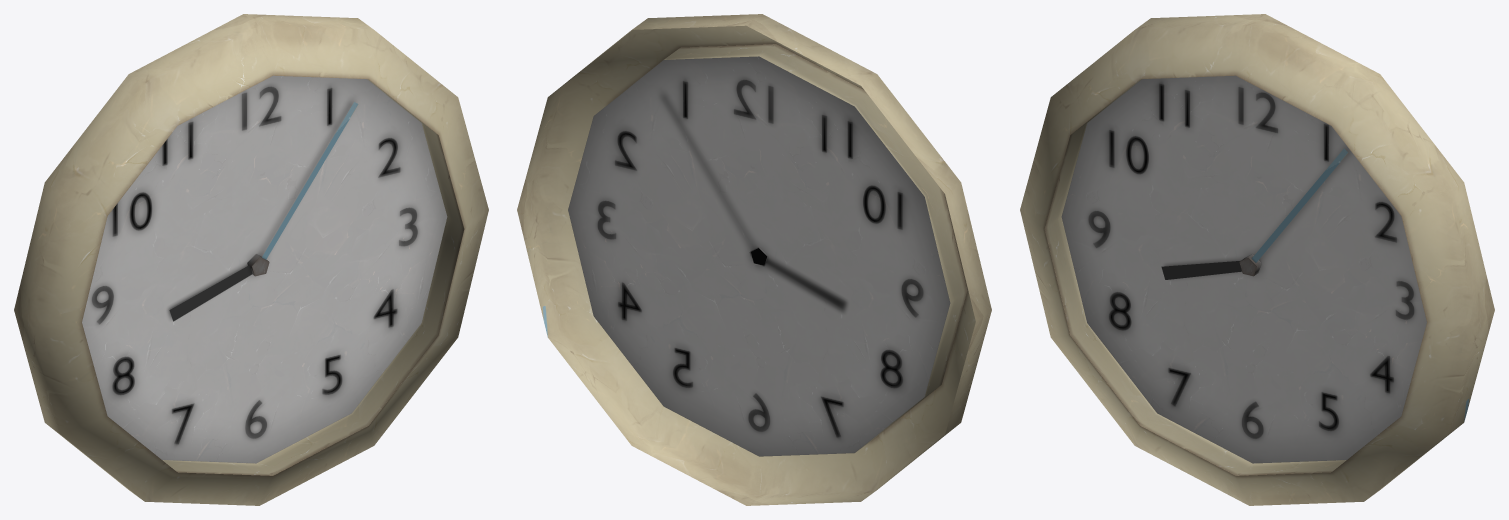
The model's file is Clock.obj.
3 renders of one model, left to right at view 1: azimuth 30°, elevation 25°; view 2: azimuth 150°, elevation 25°; view 3: azimuth 330°, elevation 25°, orthographic.
Visible parts, largest first — view 1: Clock; view 2: Clock; view 3: Clock.
Boxes of the visible parts, <box> form: Clock: <box>14,14,488,505</box>; Clock: <box>517,14,991,505</box>; Clock: <box>1020,14,1494,505</box>.
Size of the model in its own units: 3.12 by 3.12 by 0.35.
